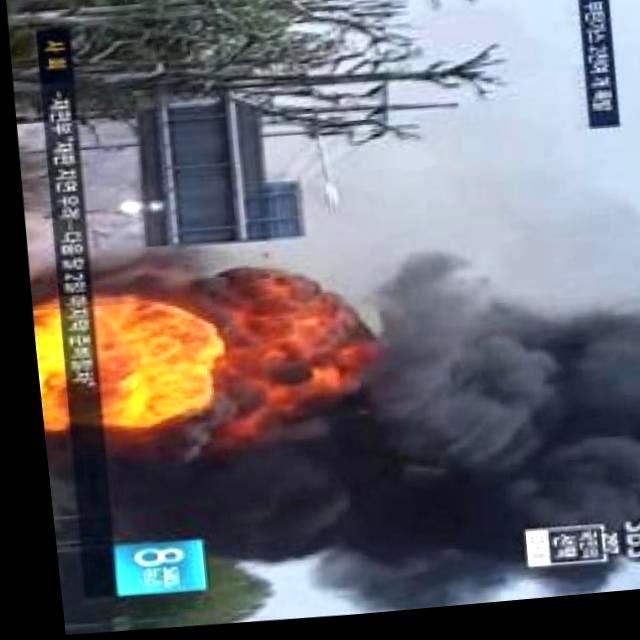fire: (76, 286, 200, 426), (24, 294, 58, 434)
